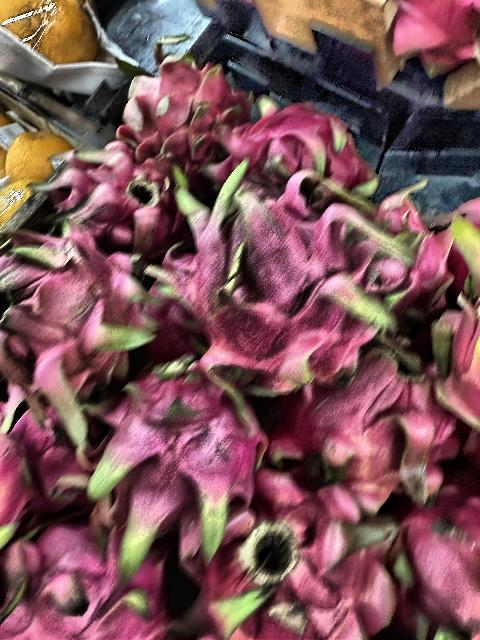buah-naga-matang: (168, 166, 400, 392), (84, 371, 286, 554), (0, 214, 154, 414), (216, 478, 388, 640), (293, 351, 459, 502), (3, 524, 177, 640), (204, 109, 382, 197), (51, 130, 192, 240), (108, 59, 253, 154), (396, 499, 480, 637), (3, 410, 97, 520)
